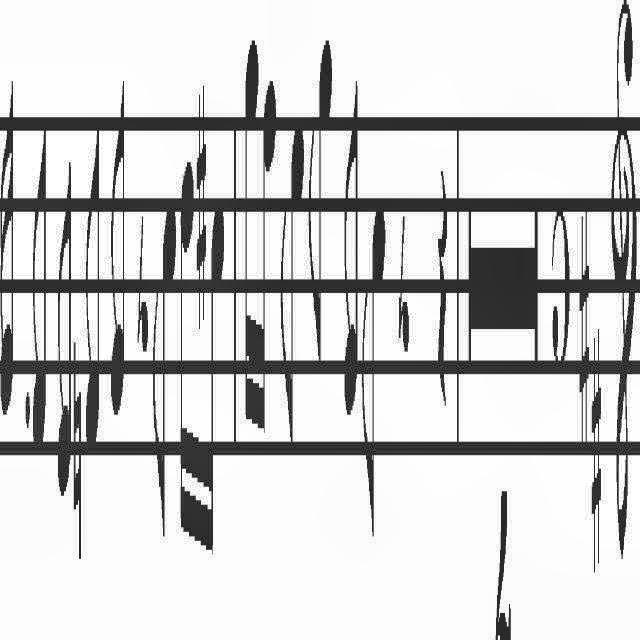Bass-clef: (611, 0, 640, 640), (639, 0, 640, 640)
Diez: (591, 250, 609, 602), (192, 97, 208, 359), (578, 196, 590, 476)
Eighth-note: (304, 20, 336, 384), (361, 151, 387, 574), (278, 96, 304, 488), (152, 191, 176, 571), (52, 142, 72, 510), (30, 111, 50, 467), (341, 54, 359, 442), (109, 52, 127, 424), (84, 100, 100, 477)
Eighth-rest: (396, 166, 412, 418), (134, 170, 150, 370)
Quarter-rest: (434, 94, 450, 482)
Sixteenth-note: (208, 196, 232, 594), (240, 44, 260, 456), (178, 131, 196, 585), (258, 59, 278, 453), (0, 72, 18, 464)
